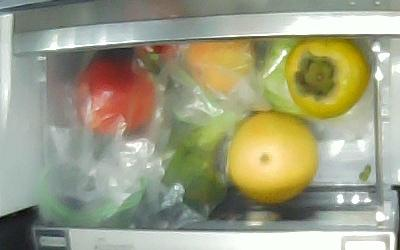apple_vinyl: (78, 59, 156, 134)
broccoli_vinyl: (168, 110, 246, 200)
grapefruit: (228, 112, 319, 203)
lettuce: (262, 39, 307, 116)
peach_vinyl: (186, 39, 256, 91)
persimmon: (285, 38, 370, 120)
